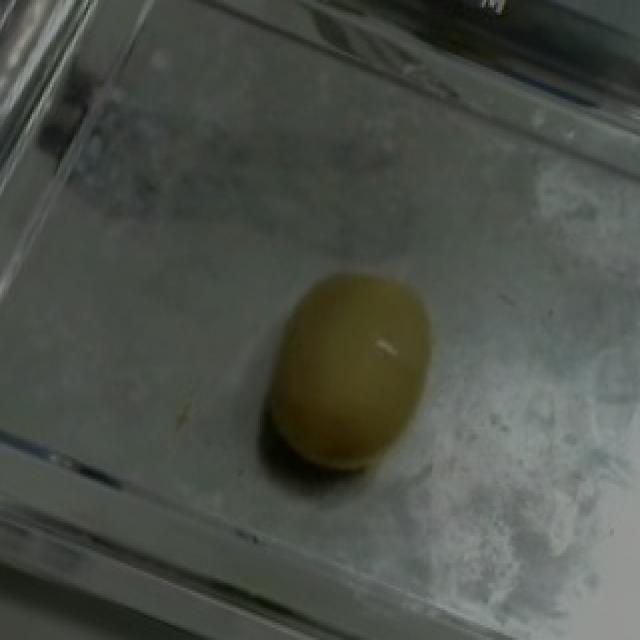Fruit: (220, 231, 482, 514)
